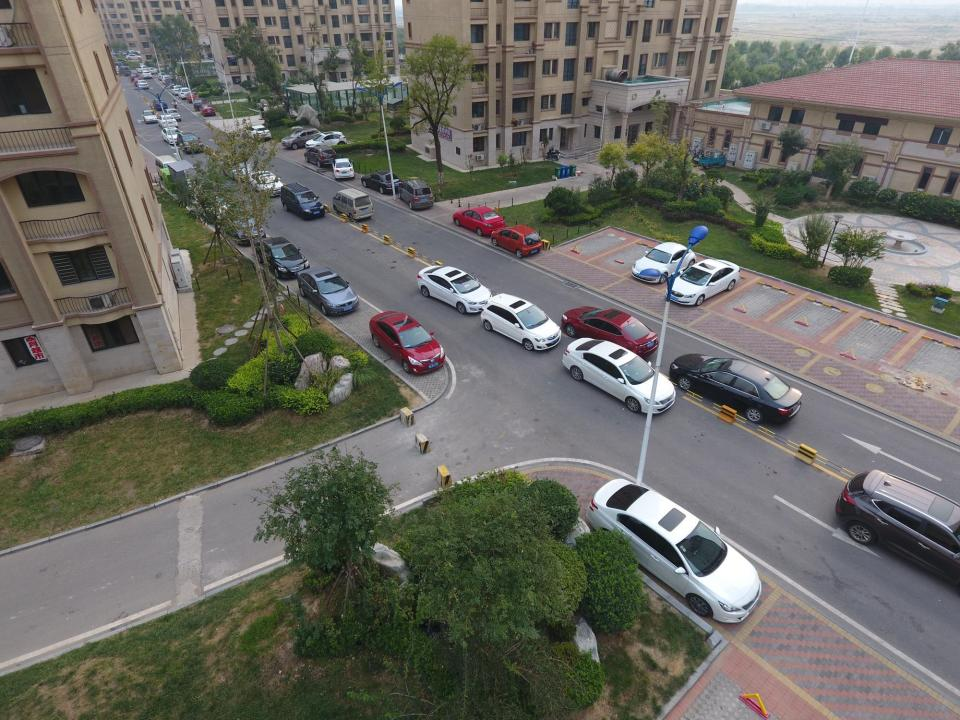car: (588, 479, 764, 624), (834, 469, 960, 600), (670, 353, 802, 426), (560, 338, 676, 414), (562, 307, 660, 358), (370, 310, 446, 374), (481, 293, 562, 352), (418, 264, 494, 314), (665, 259, 740, 308), (298, 268, 360, 316), (631, 241, 697, 284), (255, 236, 310, 280), (490, 226, 543, 258), (452, 206, 508, 236), (222, 212, 268, 247), (198, 192, 236, 222), (248, 170, 284, 199), (361, 171, 404, 195), (279, 129, 325, 149), (306, 131, 347, 153), (304, 144, 339, 168), (222, 156, 254, 181), (176, 133, 205, 155), (245, 124, 271, 143), (332, 157, 354, 179), (162, 127, 182, 147), (158, 114, 177, 132), (166, 107, 182, 123), (142, 110, 158, 124), (199, 104, 216, 116), (151, 99, 168, 111), (178, 87, 192, 99), (186, 92, 199, 103), (194, 98, 205, 110), (172, 85, 184, 96), (136, 80, 149, 90), (164, 78, 176, 88), (124, 54, 142, 60), (136, 66, 150, 72), (147, 67, 157, 75), (133, 78, 143, 86), (109, 58, 125, 63), (130, 74, 141, 81), (121, 50, 133, 56), (157, 73, 167, 80), (113, 50, 124, 56), (129, 50, 140, 56), (162, 76, 171, 83)
van: (281, 183, 325, 220), (332, 188, 374, 220), (396, 178, 434, 211), (119, 66, 133, 76)
